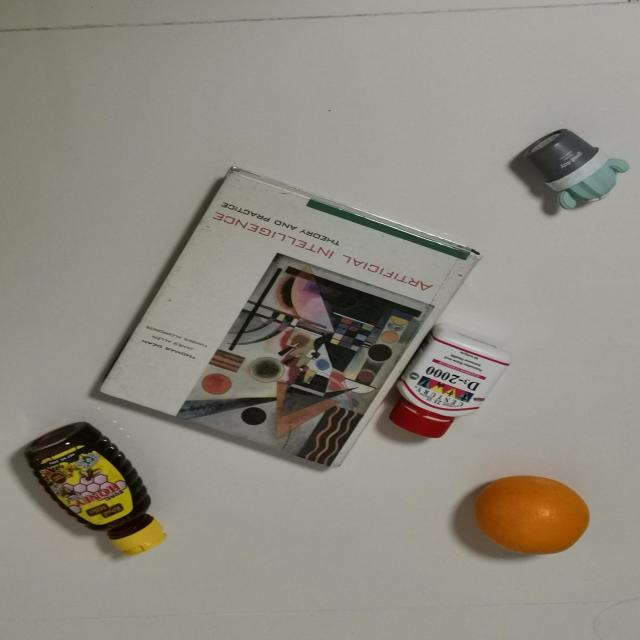Book: (91, 165, 496, 476)
Orange: (471, 473, 589, 555)
